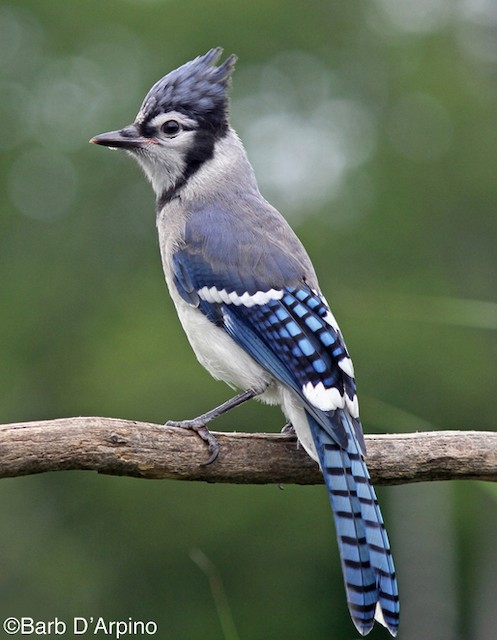bird: (127, 46, 400, 562)
